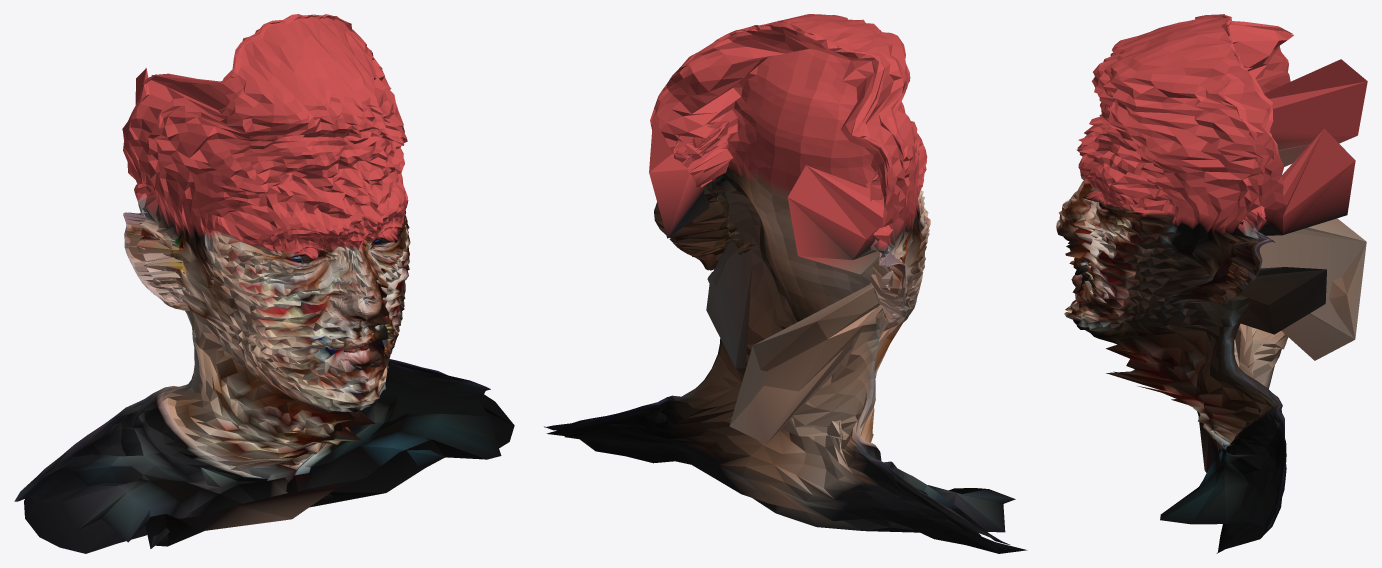
Rendered from exported_red_hair_blender.obj.
3 views of the same model, side by side, from view 1: azimuth 30°, elevation 25°; view 2: azimuth 150°, elevation 25°; view 3: azimuth 270°, elevation 25° (orthographic). The views are drawn at different scales.
Parts seen in each view (by area): view 1: asian_m_textured_mesh; view 2: asian_m_textured_mesh; view 3: asian_m_textured_mesh.
Boxes of the visible parts, left/top/right/bottom form: asian_m_textured_mesh: left=14, top=14, right=514, bottom=553; asian_m_textured_mesh: left=544, top=14, right=1027, bottom=553; asian_m_textured_mesh: left=1056, top=14, right=1367, bottom=553.
Bounding box in the file's own units: 0.3661 × 0.3668 × 0.2274.
